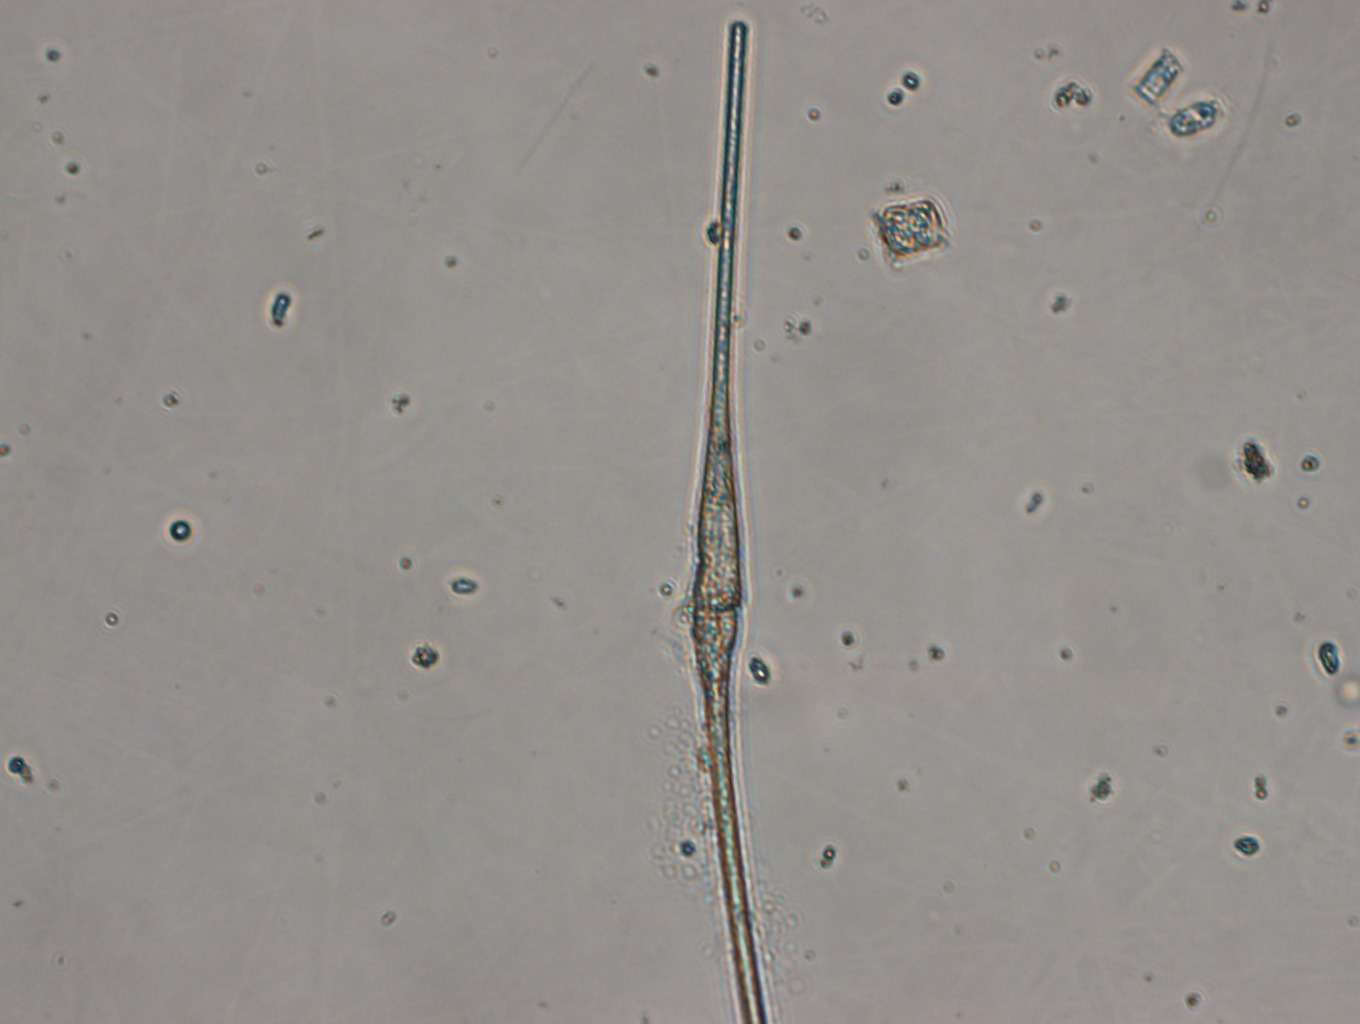ceratium fusus: (687, 22, 769, 1024)
